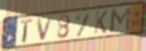7: (75, 11, 91, 38)
8: (56, 14, 70, 40)
K: (93, 9, 109, 35)
M: (109, 6, 132, 34)
T: (19, 18, 34, 43)
V: (36, 15, 55, 41)
